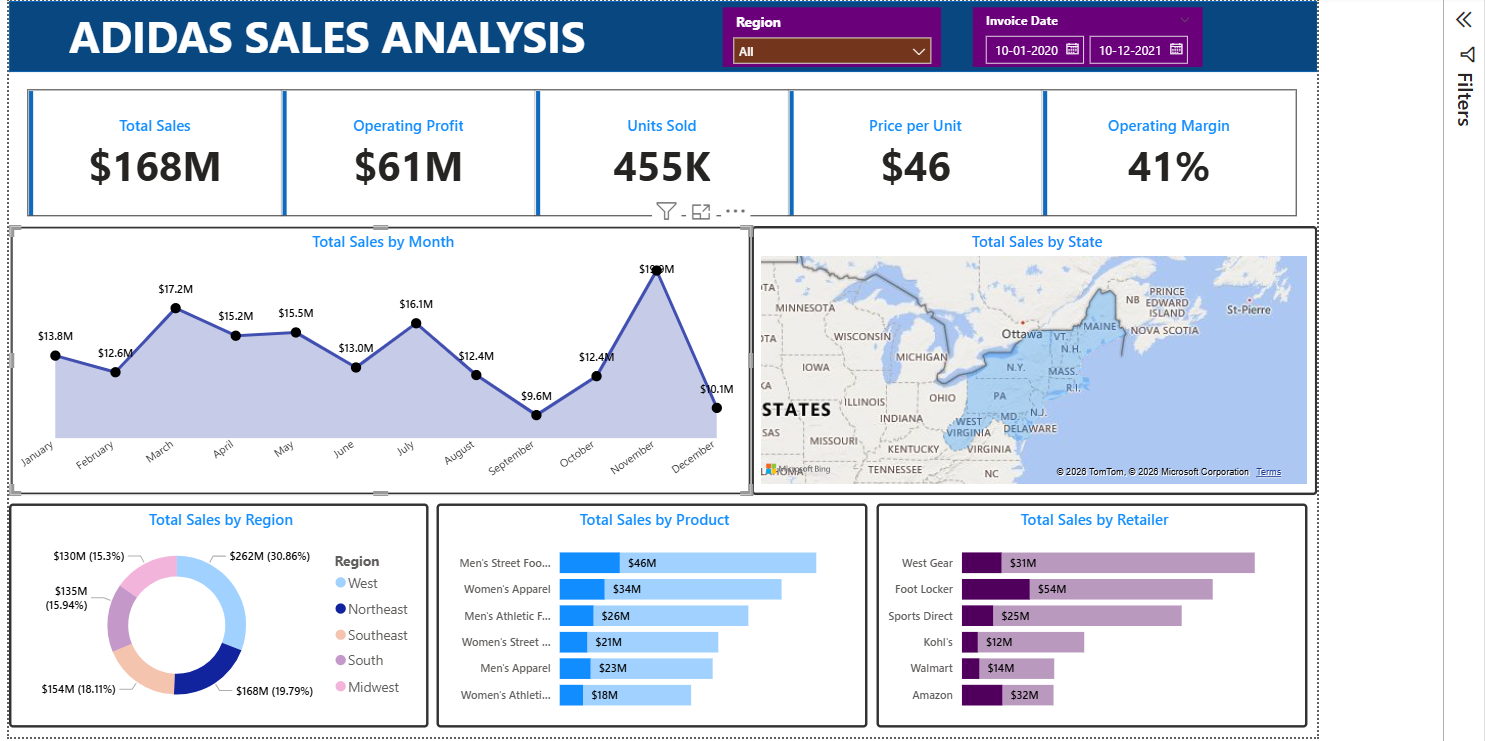

This screenshot's page, from the dashboard's own definition file:
{"tool":"powerbi","page":{"name":"Page 1","canvas":[1280,720],"ordinal":0},"visuals":[{"type":"shape","box":[0,0,1280.3,69.7],"z":0},{"type":"textbox","box":[53.5,0,528.3,70],"z":1000},{"type":"cardVisual","fields":{"Data":["Sum(Data Sales Adidas.Total Sales)","Sum(Data Sales Adidas.Operating Profit)","Sum(Data Sales Adidas.Units Sold)","Avg(Data Sales Adidas.Price per Unit)","Avg(Data Sales Adidas.Operating Margin)"]},"box":[1.2,69.7,1279.1,159],"z":2000},{"type":"areaChart","title":" Total Sales by Month","fields":{"Category":["Data Sales Adidas.Invoice Date.Variation.Date Hierarchy.Month"],"Y":["Sum(Data Sales Adidas.Total Sales)"]},"box":[1.2,220.1,725.1,262.9],"z":3000},{"type":"filledMap","title":" Total Sales by State","fields":{"Category":["Data Sales Adidas.State"],"X":["Sum(Data Sales Adidas.Price per Unit)"]},"box":[726.4,220.1,553.9,262.9],"z":4000},{"type":"donutChart","title":"Total Sales by Region","fields":{"Category":["Data Sales Adidas.Region"],"Y":["Sum(Data Sales Adidas.Total Sales)"]},"box":[0,491.6,410,218.9],"z":5000},{"type":"barChart","title":"Total Sales by Product","fields":{"Category":["Data Sales Adidas.Product"],"Y":["Sum(Data Sales Adidas.Total Sales)"]},"box":[418.2,491.6,421.9,218.9],"z":6000},{"type":"barChart","title":"Total Sales by Retailer","fields":{"Y":["Sum(Data Sales Adidas.Total Sales)"],"Category":["Data Sales Adidas.Retailer"]},"box":[848.6,491.6,421.9,218.9],"z":7000},{"type":"slicer","fields":{"Values":["Data Sales Adidas.Region"]},"box":[698.2,6.1,214,58.7],"z":7001},{"type":"slicer","fields":{"Values":["Data Sales Adidas.Invoice Date"]},"box":[942.8,6.1,225,58.7],"z":7002}]}

Visuals, with their boxes in screenshot pixels (x1, y1, x2, y2):
shape: locate(4, 0, 1306, 71)
textbox: locate(58, 0, 596, 71)
cardVisual - Sum(Data Sales Adidas.Total Sales) x Sum(Data Sales Adidas.Operating Profit): locate(5, 71, 1306, 233)
" Total Sales by Month" areaChart: locate(5, 224, 743, 491)
" Total Sales by State" filledMap: locate(743, 224, 1306, 491)
"Total Sales by Region" donutChart: locate(4, 500, 421, 723)
"Total Sales by Product" barChart: locate(429, 500, 858, 723)
"Total Sales by Retailer" barChart: locate(867, 500, 1296, 723)
slicer - Data Sales Adidas.Region: locate(714, 6, 932, 66)
slicer - Data Sales Adidas.Invoice Date: locate(963, 6, 1192, 66)
